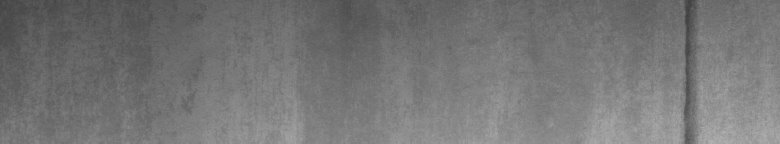hd: (677, 4, 702, 136)
